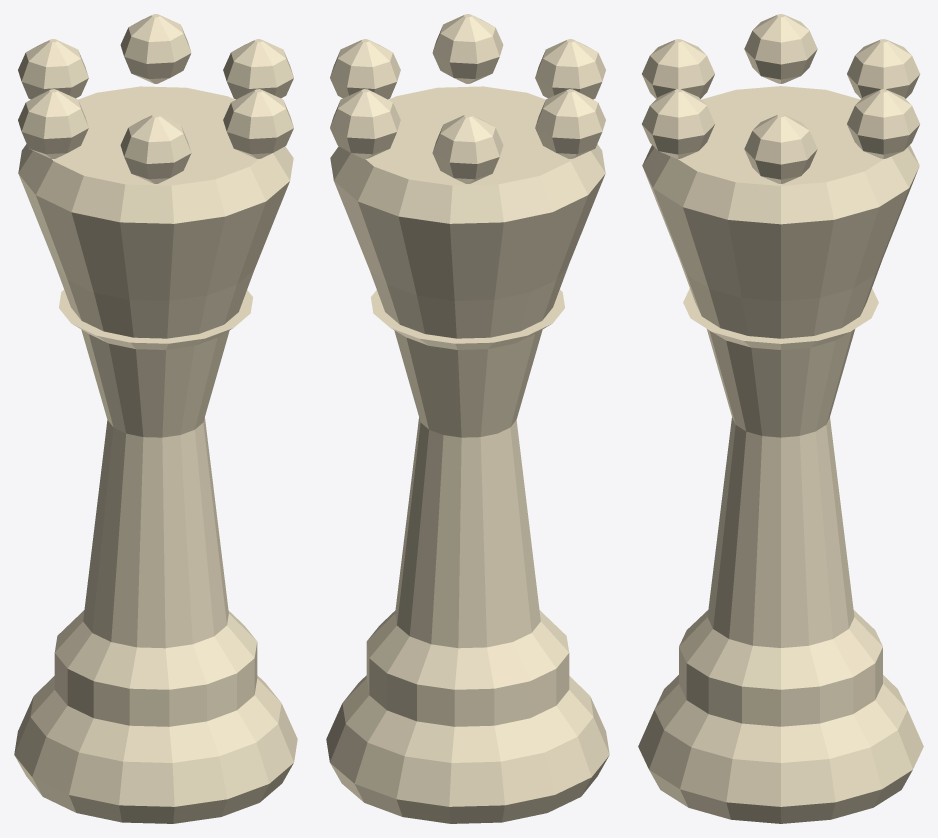
File: SM_IntellectualGrandpaHouse_Chess_White_Queen.fbx
3 views of the same model, side by side, from view 1: azimuth 30°, elevation 25°; view 2: azimuth 150°, elevation 25°; view 3: azimuth 270°, elevation 25° (orthographic).
Parts seen in each view (by area): view 1: SM_IntellectualGrandpaHouse_Chess_White_Queen; view 2: SM_IntellectualGrandpaHouse_Chess_White_Queen; view 3: SM_IntellectualGrandpaHouse_Chess_White_Queen.
Part boxes in pixels (<box>): SM_IntellectualGrandpaHouse_Chess_White_Queen: <box>14,14,297,823</box>; SM_IntellectualGrandpaHouse_Chess_White_Queen: <box>326,14,609,823</box>; SM_IntellectualGrandpaHouse_Chess_White_Queen: <box>638,14,923,823</box>.
Bounding box in the file's own units: 7.6 × 7 × 19.
